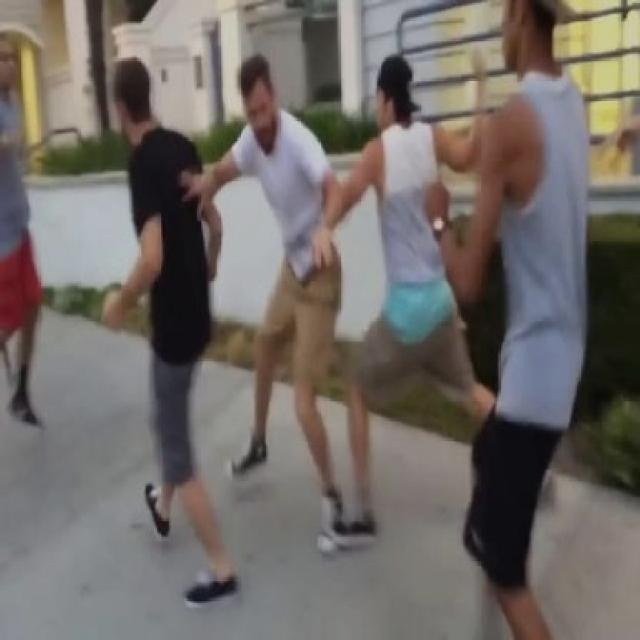fight: (178, 42, 497, 553)
non-fight: (435, 0, 604, 640), (96, 50, 245, 610), (0, 11, 46, 435)
